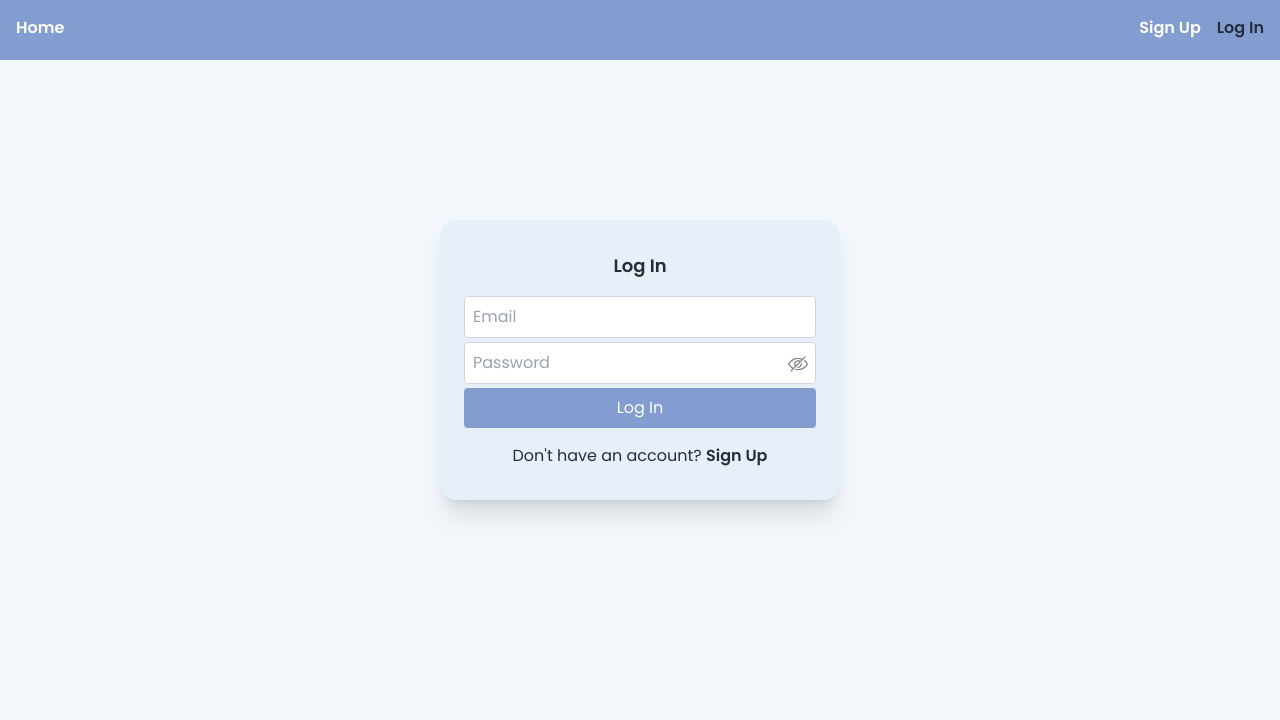
Scenario: Login Page › displays error message on failed login
Step 1. Type "wrong@example.com" into the field named "email" → point(640, 317), box [464,296,816,338]
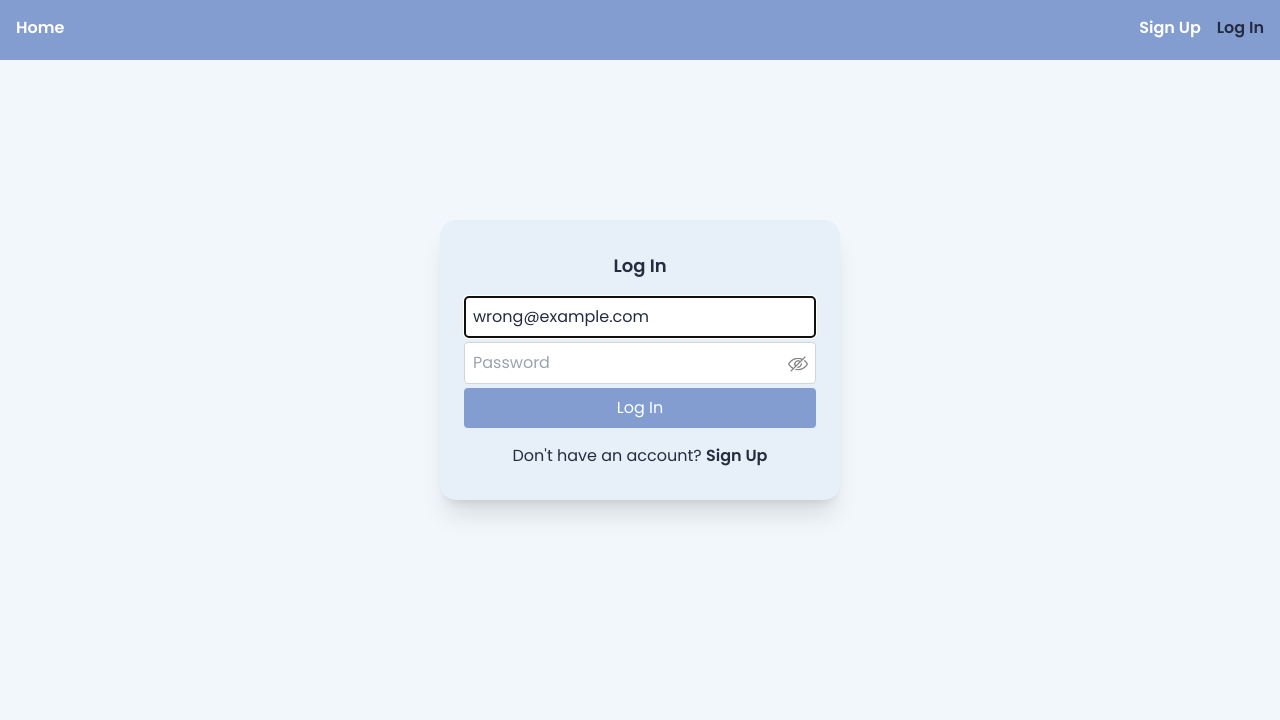
Step 2. Type "wrongpassword" into the password field named "password" → point(640, 363), box [464,342,816,384]
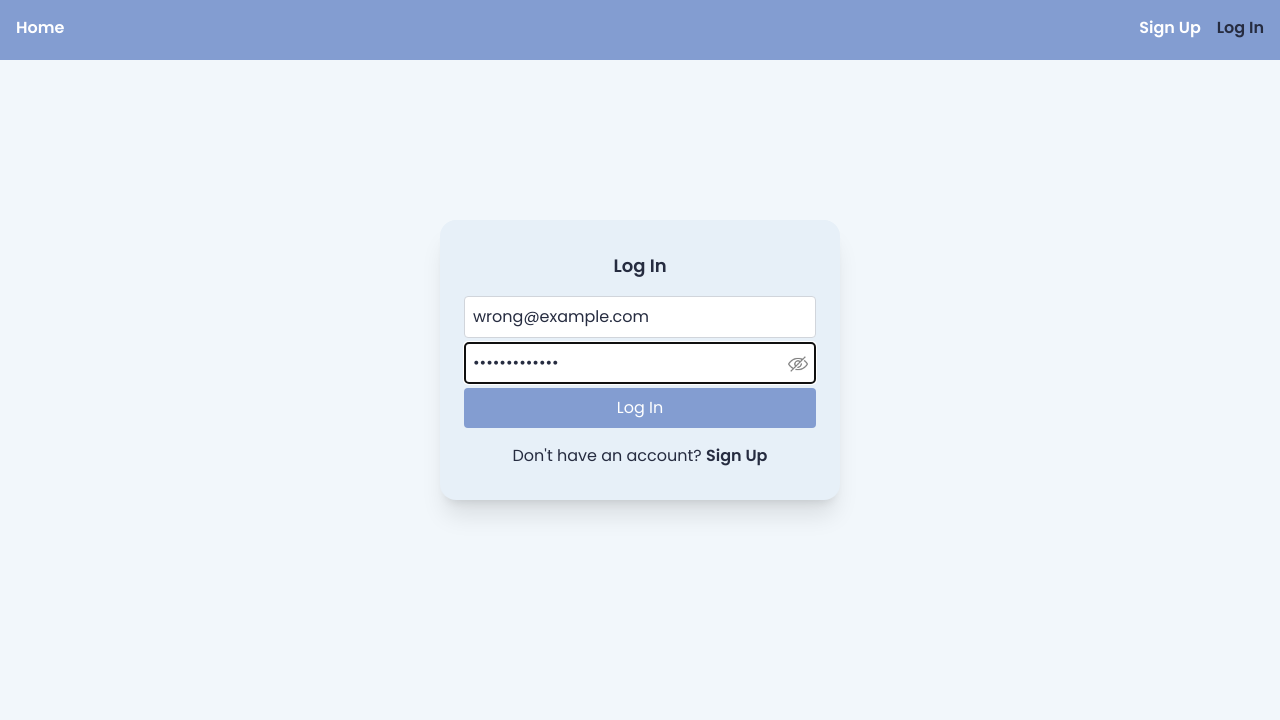
Step 3. Click the submit button → point(640, 408), box [464,388,816,428]
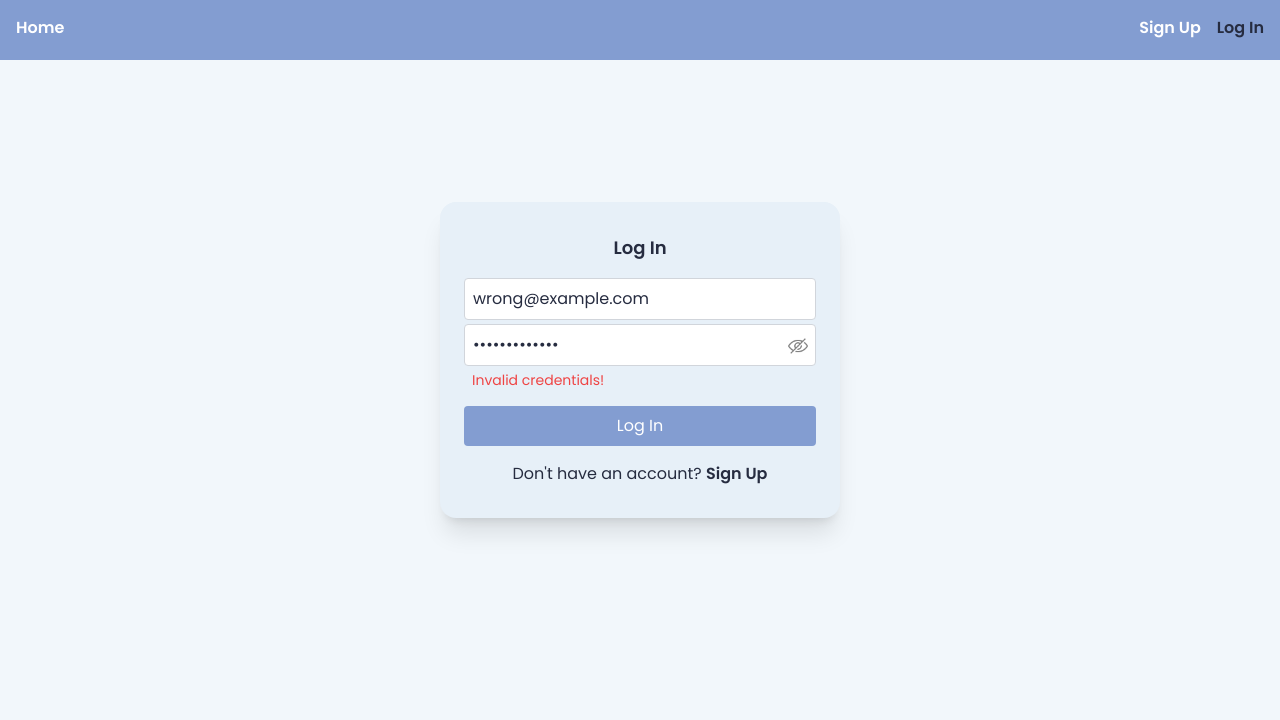
Check: the text "Invalid credentials!" is shown, box [472,370,604,390]
